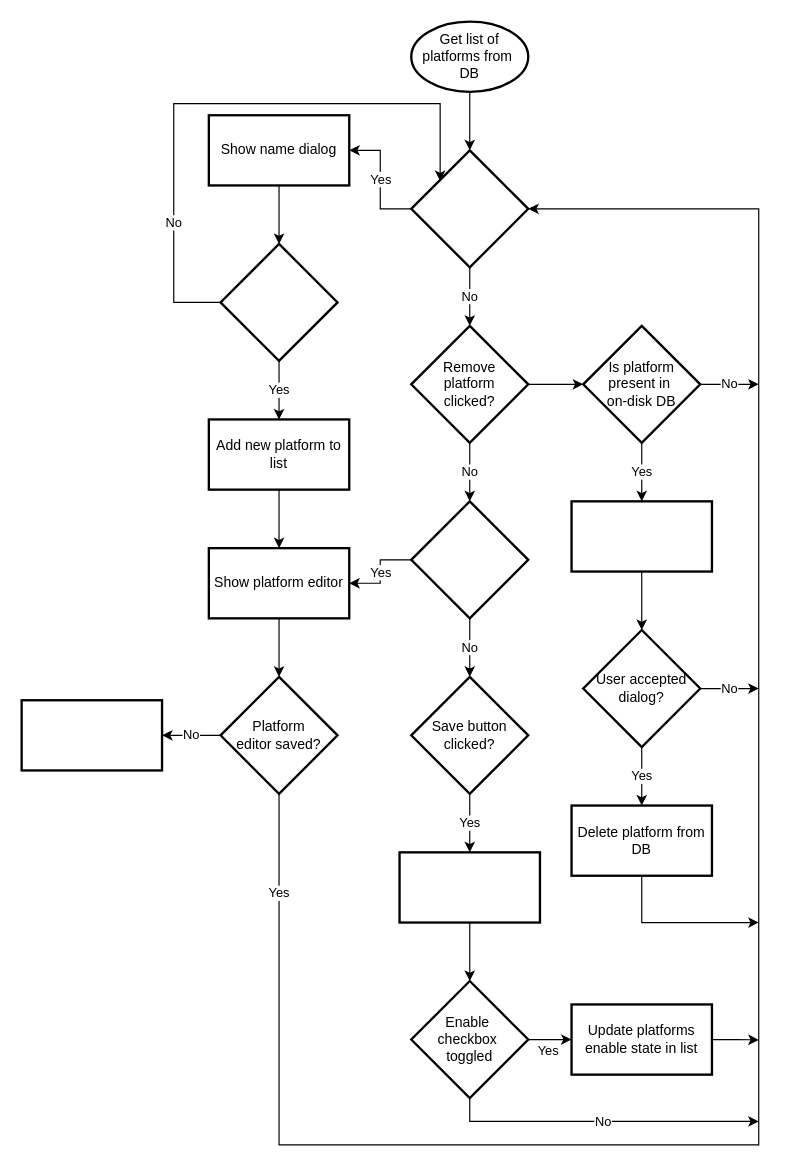
Image size: 789x1175. Some labels were removed from this diagram. Each missing label, with the centre of its shape:
"Add platform clicked?" goes at point 469,208.
"Delete new platform from list" goes at point 91,734.
"Dialog accepted?" goes at point 278,302.
"Edit platform clicked?" goes at point 469,559.
"Show warning dialog" goes at point 641,536.
"Write updated platform list to DB" goes at point 469,887.
